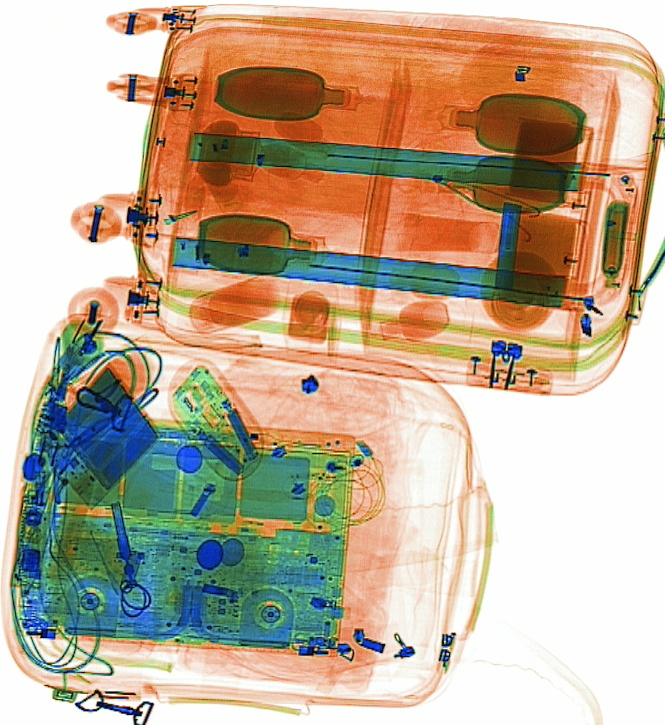powerbank: (38, 359, 158, 510)
